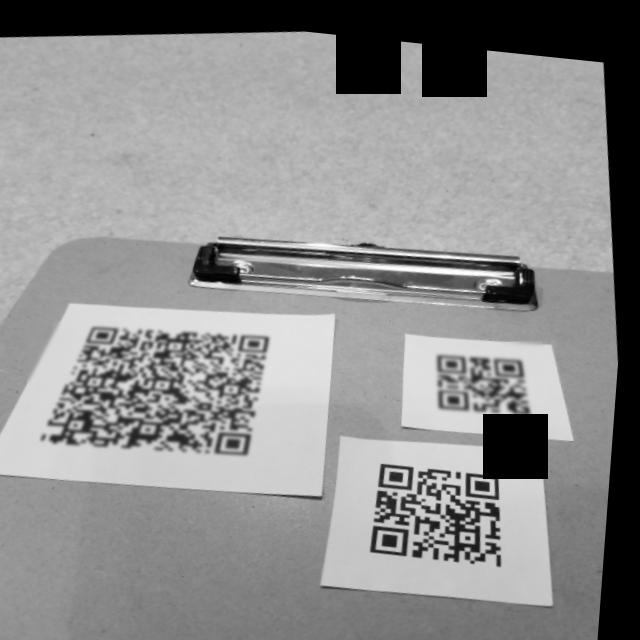QR_CODE: (21, 290, 303, 485), (354, 429, 533, 584), (423, 319, 557, 427)
